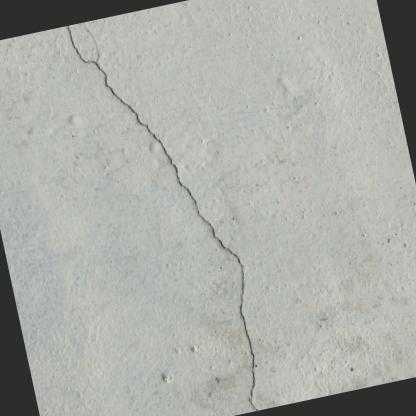crack: (67, 25, 258, 411), (81, 22, 98, 60)
